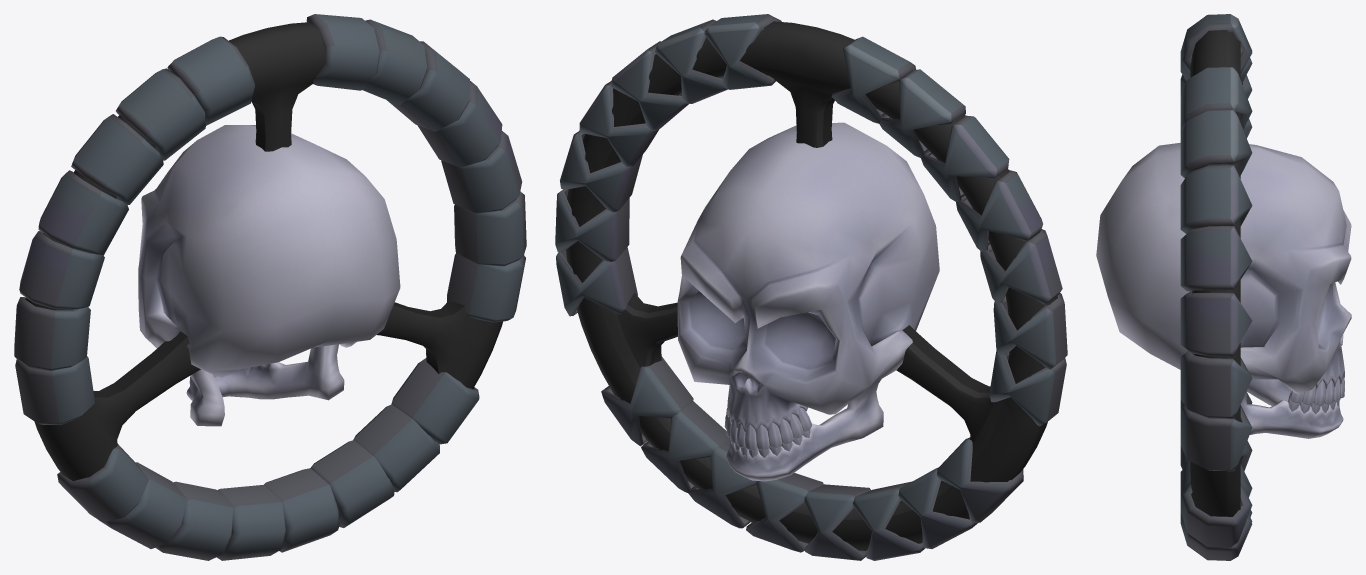
File: Skull Steering.fbx
3 views of the same model, side by side, from view 1: azimuth 30°, elevation 25°; view 2: azimuth 150°, elevation 25°; view 3: azimuth 270°, elevation 25° (orthographic). The views are drawn at different scales.
Parts seen in each view (by area): view 1: Skull_Steering, Skull1; view 2: Skull_Steering, Skull1; view 3: Skull1, Skull_Steering.
Part boxes in pixels (x1,y1,x2,y2): Skull_Steering: (14,14,526,560); Skull1: (138,125,400,426); Skull_Steering: (555,14,1067,560); Skull1: (677,122,939,481); Skull1: (1096,142,1351,438); Skull_Steering: (1180,14,1252,560).
Bounding box in the file's own units: 111 × 110 × 52.02.
